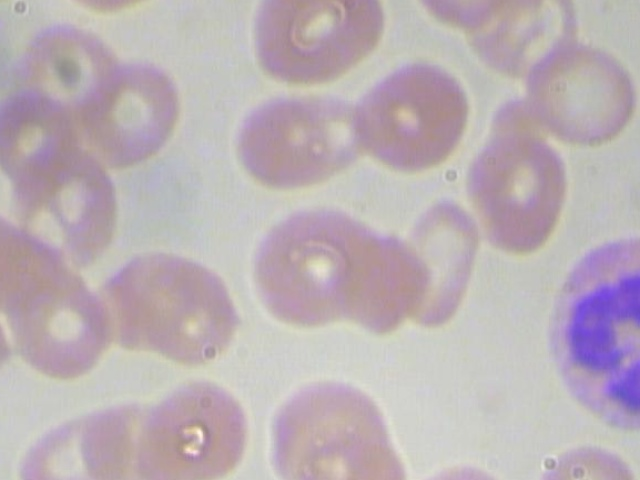RBC: (239, 198, 393, 339), (228, 77, 368, 190), (465, 124, 574, 264), (351, 58, 471, 173), (524, 36, 640, 151), (133, 373, 252, 480), (248, 0, 389, 90), (393, 190, 479, 331), (2, 274, 111, 382), (75, 59, 185, 166), (286, 409, 404, 480), (0, 87, 80, 188), (529, 435, 640, 480)
WBC: (545, 227, 640, 443)
